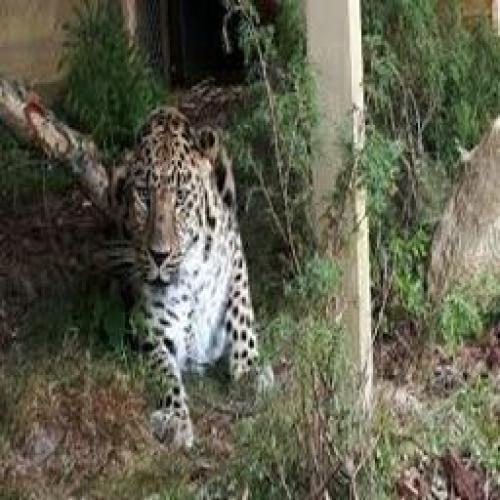amur_leopard-endangered: (115, 107, 271, 451)
